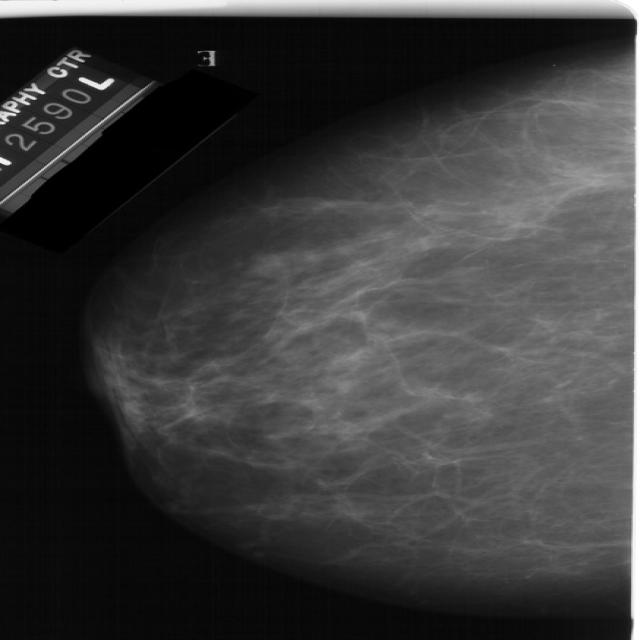tumour: (244, 252, 288, 275)
